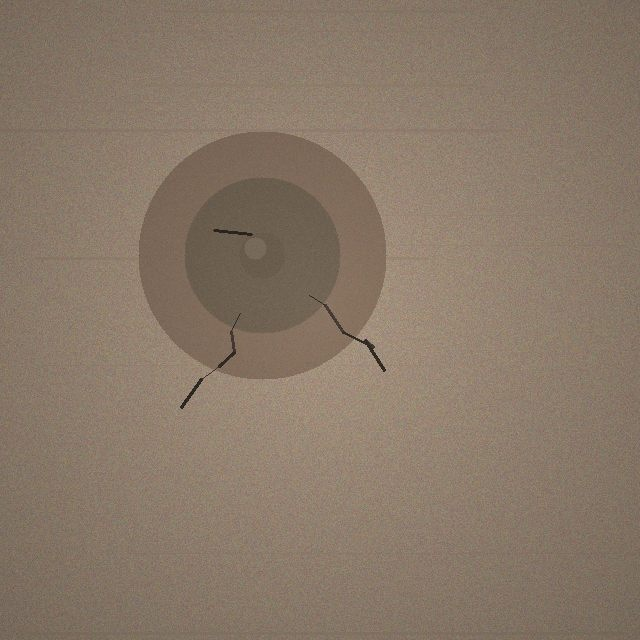crack: (138, 131, 386, 379)
